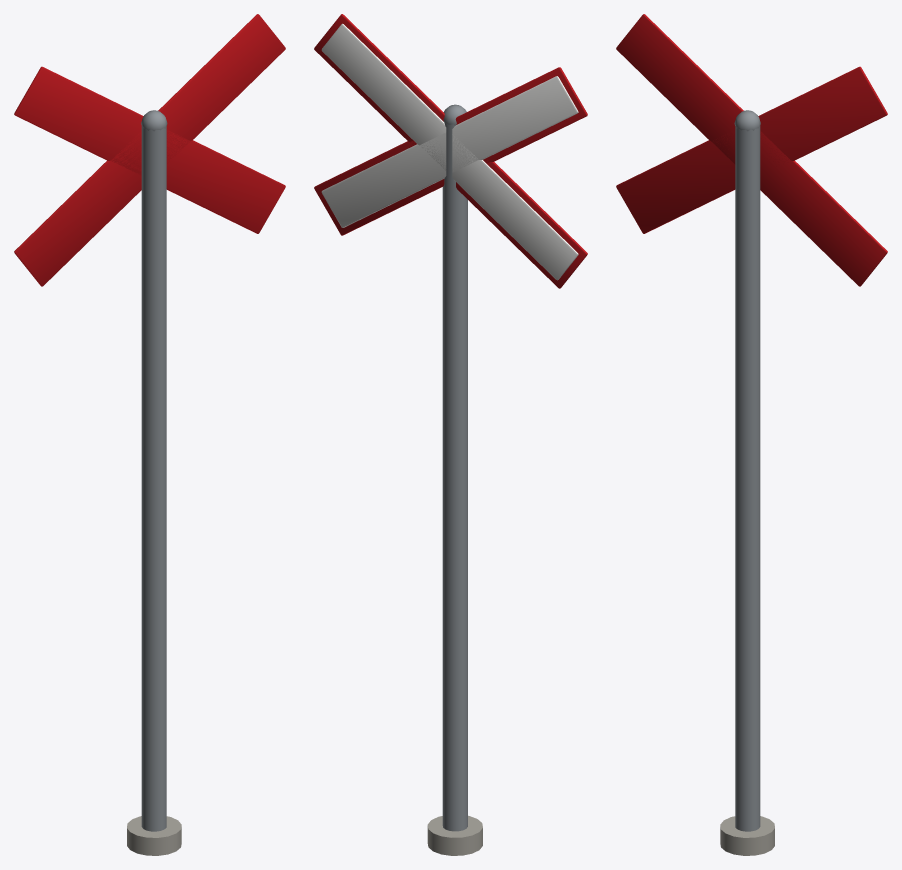
File: Sign_RailCross.fbx
3 views of the same model, side by side, from view 1: azimuth 30°, elevation 25°; view 2: azimuth 150°, elevation 25°; view 3: azimuth 330°, elevation 25° (orthographic).
Parts seen in each view (by area): view 1: Sign_RailCross_Mesh; view 2: Sign_RailCross_Mesh; view 3: Sign_RailCross_Mesh.
Boxes of the visible parts, left/top/right/bottom form: Sign_RailCross_Mesh: left=14, top=14, right=285, bottom=855; Sign_RailCross_Mesh: left=314, top=14, right=587, bottom=855; Sign_RailCross_Mesh: left=616, top=14, right=887, bottom=855.
Bounding box in the file's own units: 0.9453 × 2.67 × 0.1672.
